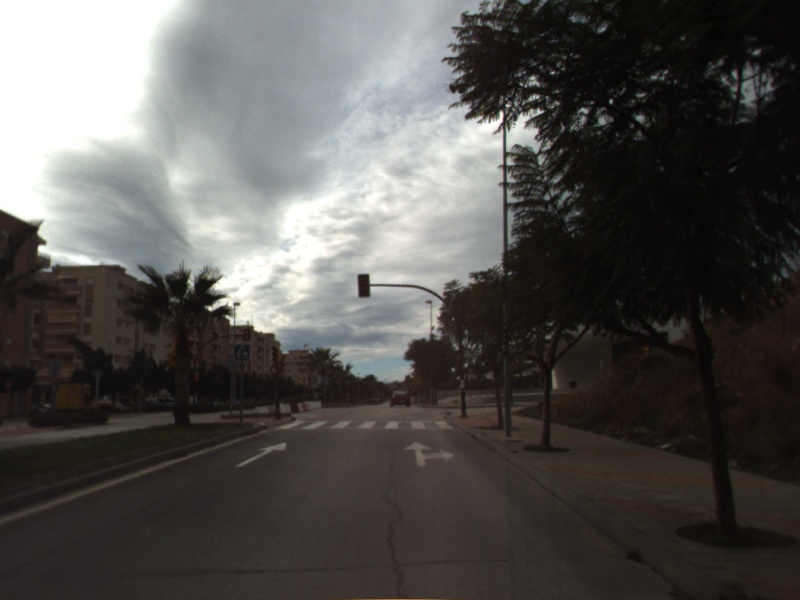STRAIGHT: (233, 440, 288, 469)
STRAIGHT_RIGHT: (403, 439, 457, 468)
